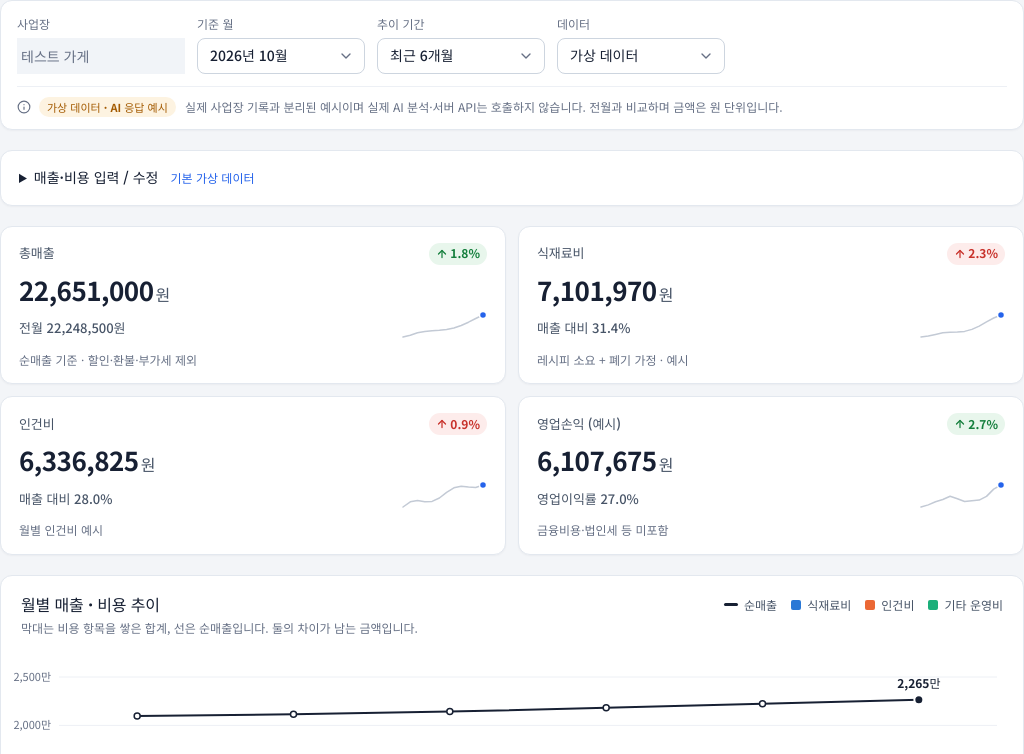
Test: 재무 자료 미연결 상태에서 가상 차트와 AI 결론을 유지하지 않는다
This screenshot has width=1024, height=754.
Select "자료 미연결" in the dropdown labelled "데이터" at point(641, 56), box 557,38 -> 725,74
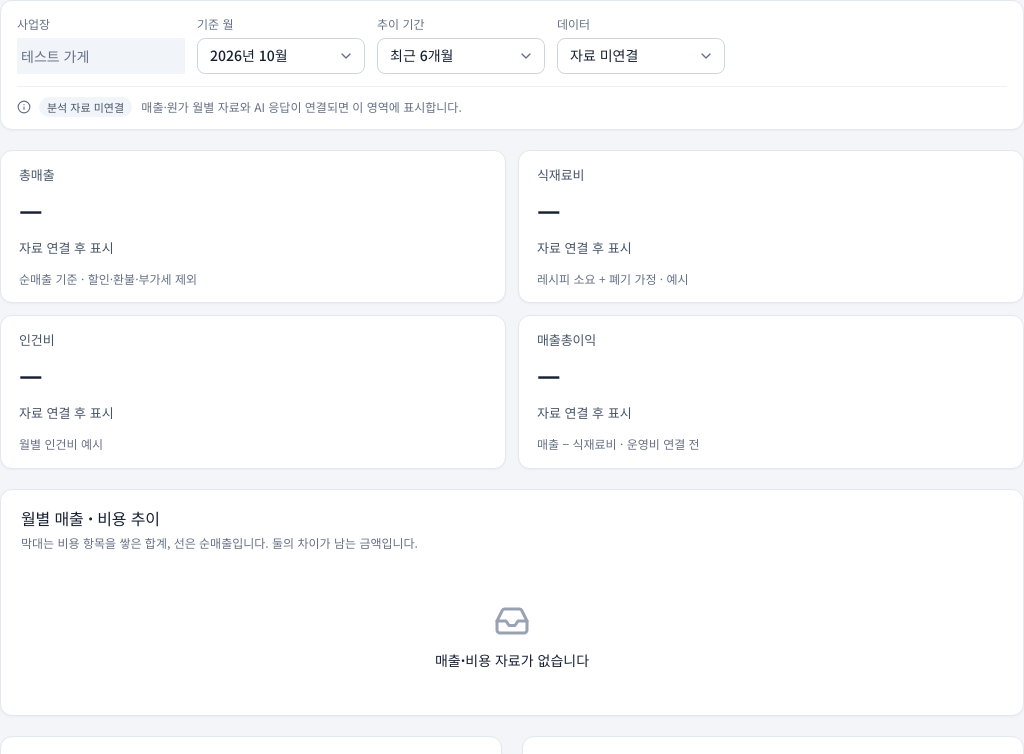
Expected: the text "—" below "총매출" is shown, 19,190 -> 42,227
